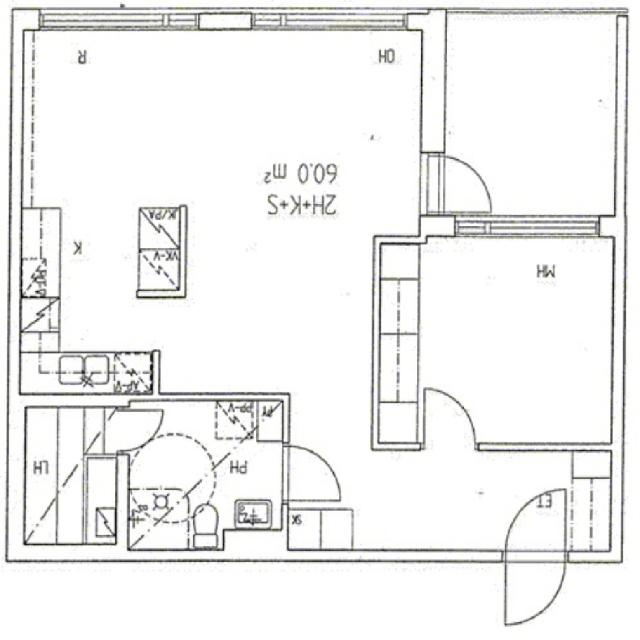door: (498, 490, 571, 628), (418, 383, 479, 455), (283, 441, 344, 508), (440, 152, 495, 220), (106, 401, 164, 455)
window: (468, 210, 602, 244), (37, 10, 174, 38)
zone: (412, 236, 620, 448), (437, 10, 626, 226), (95, 403, 284, 552), (334, 447, 541, 559), (18, 406, 120, 552), (20, 352, 152, 397), (372, 401, 422, 455)
